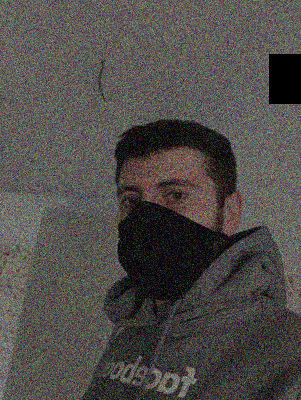with_mask: (117, 163, 217, 300)
